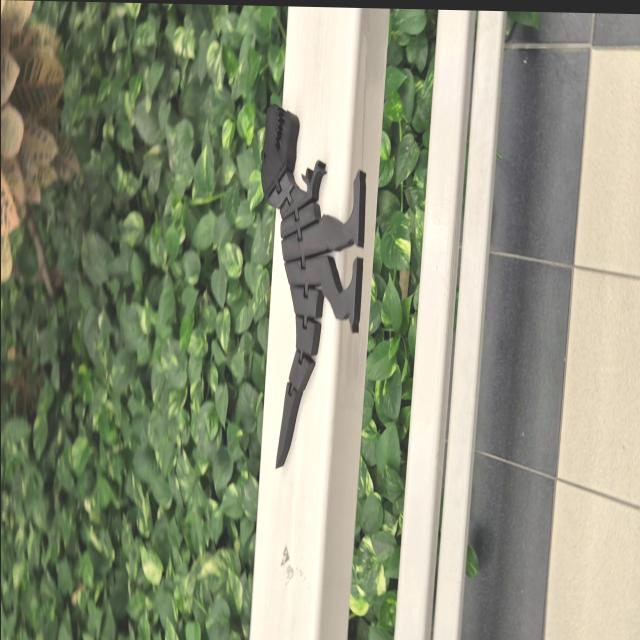dino: (259, 102, 366, 472)
